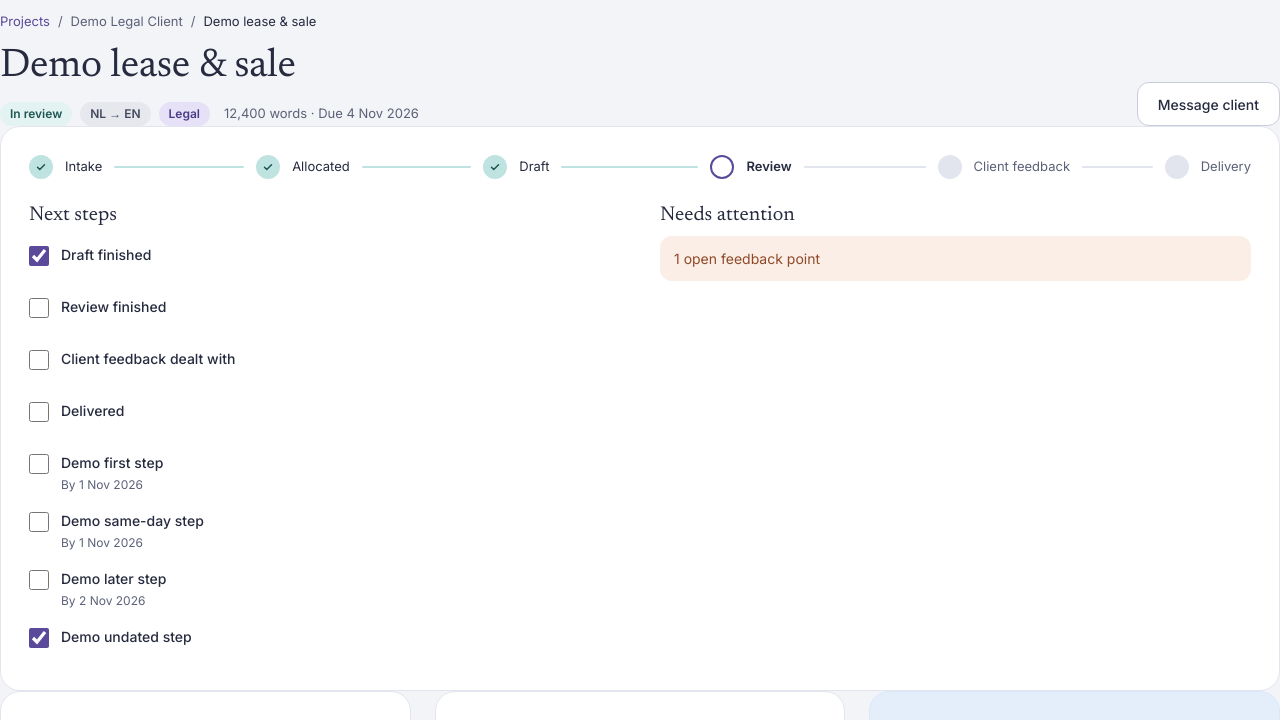
ProjectDetailView › restores the checkbox and shows the alert when a save fails, until the next success
The image size is (1280, 720).
Click the checkbox labelled "Review finished": (39, 308) [29,298,49,318]
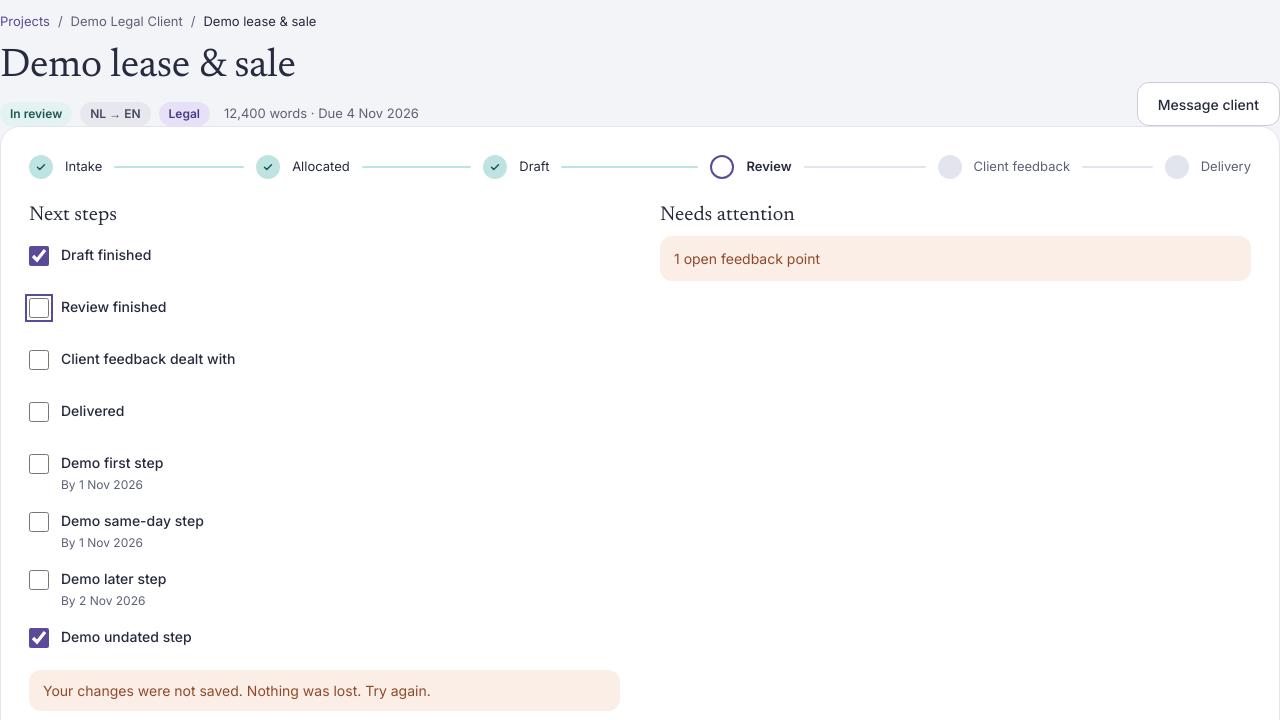
Expected: the text with class "chip" reads "In review", [10,106,62,121]
Now the message "Your changes were not saved. Nothing was lost. Try again." is shown, box [29,670,620,711]
Click the checkbox labelled "Review finished": (39, 308) [29,298,49,318]
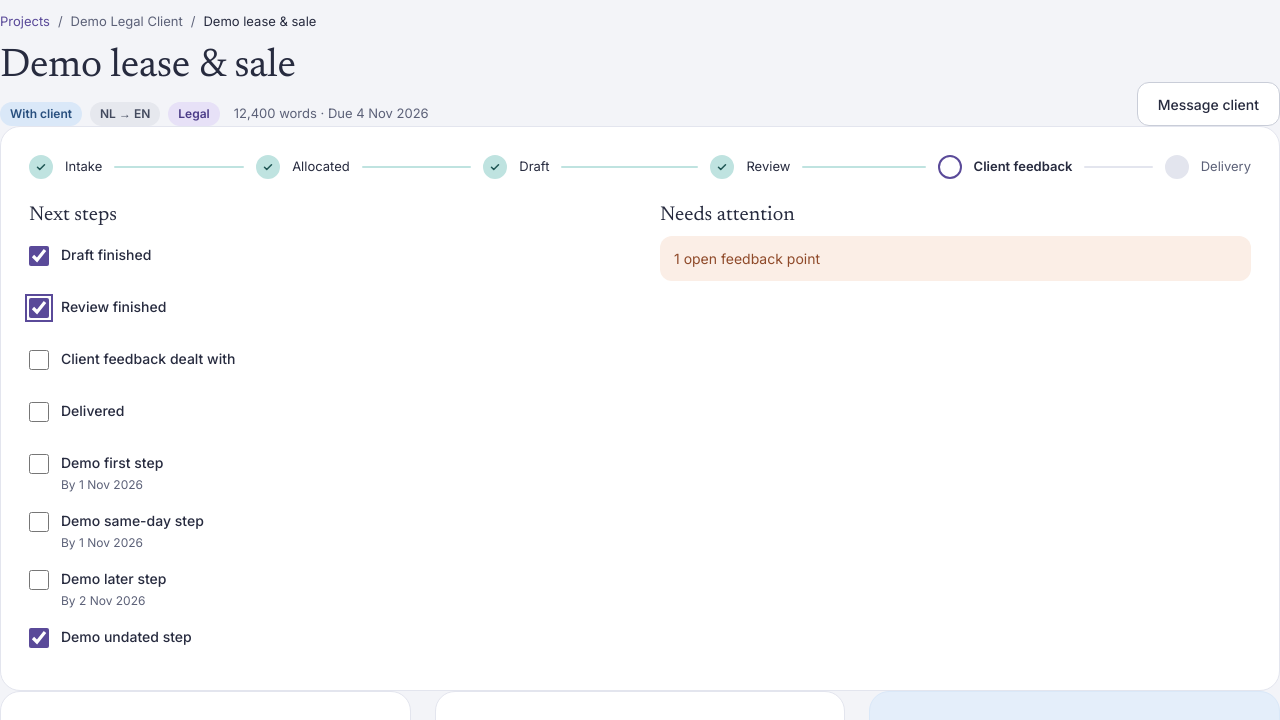
Now the text with class "chip" reads "With client", box [10,106,72,121]
